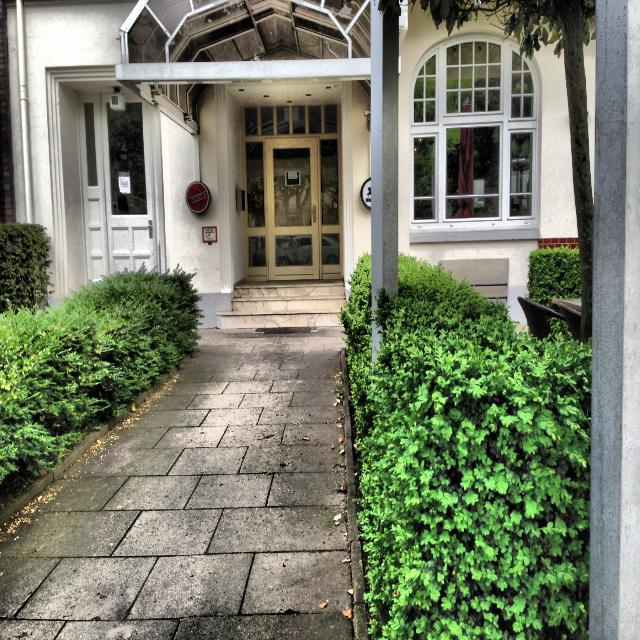escada: (214, 285, 345, 329)
